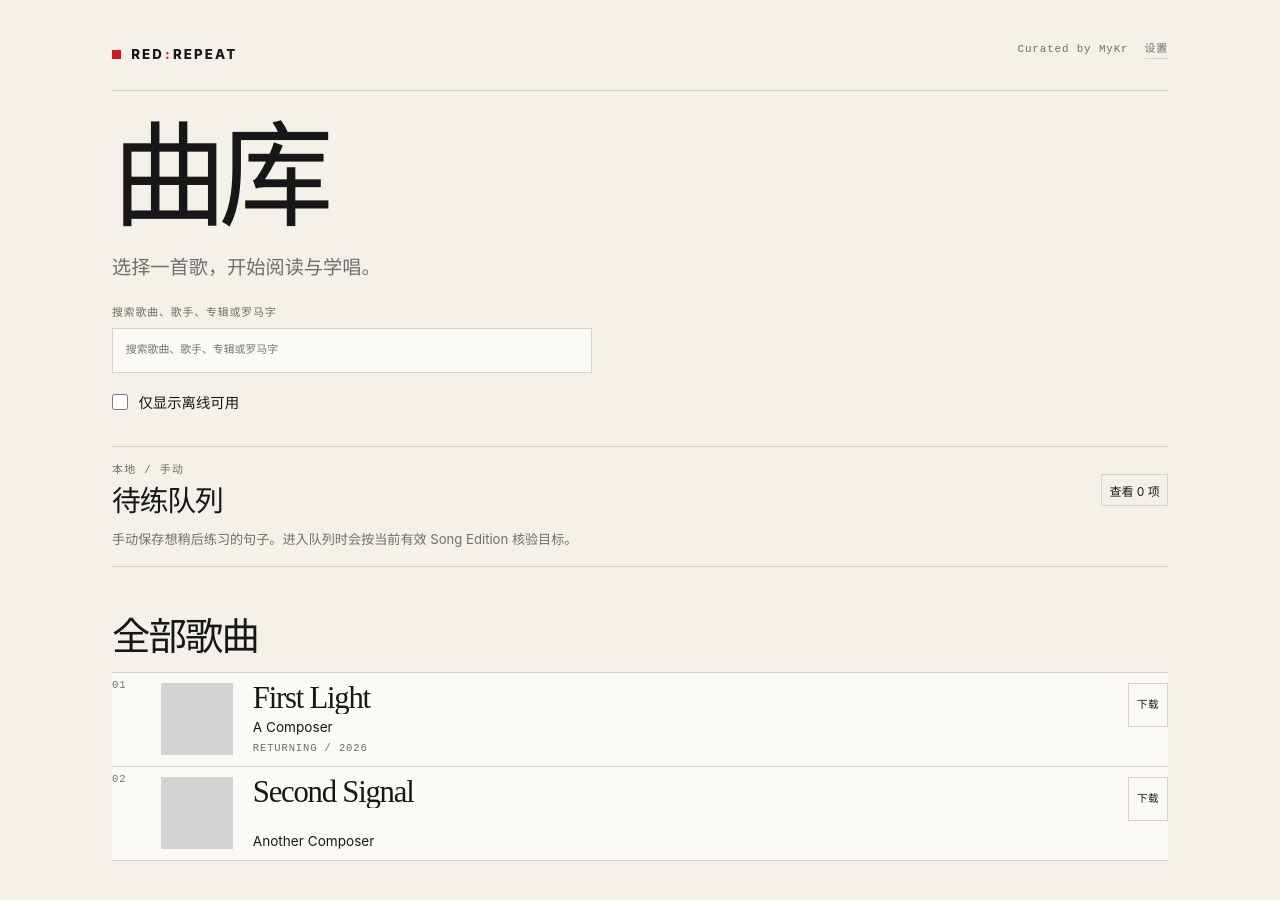
Test case: App Library consumer › keeps catalog order and filters title or artist in Unicode text
Expected: the link with aria-label "打开 Second Signal" is shown, [161,776,414,850]
Expected: the link with aria-label "打开 First Light" is shown, [161,682,370,756]
Step 1. Type "another" into the search field labelled "搜索歌曲、歌手、专辑或罗马字" → [352, 350], box [112,328,592,373]
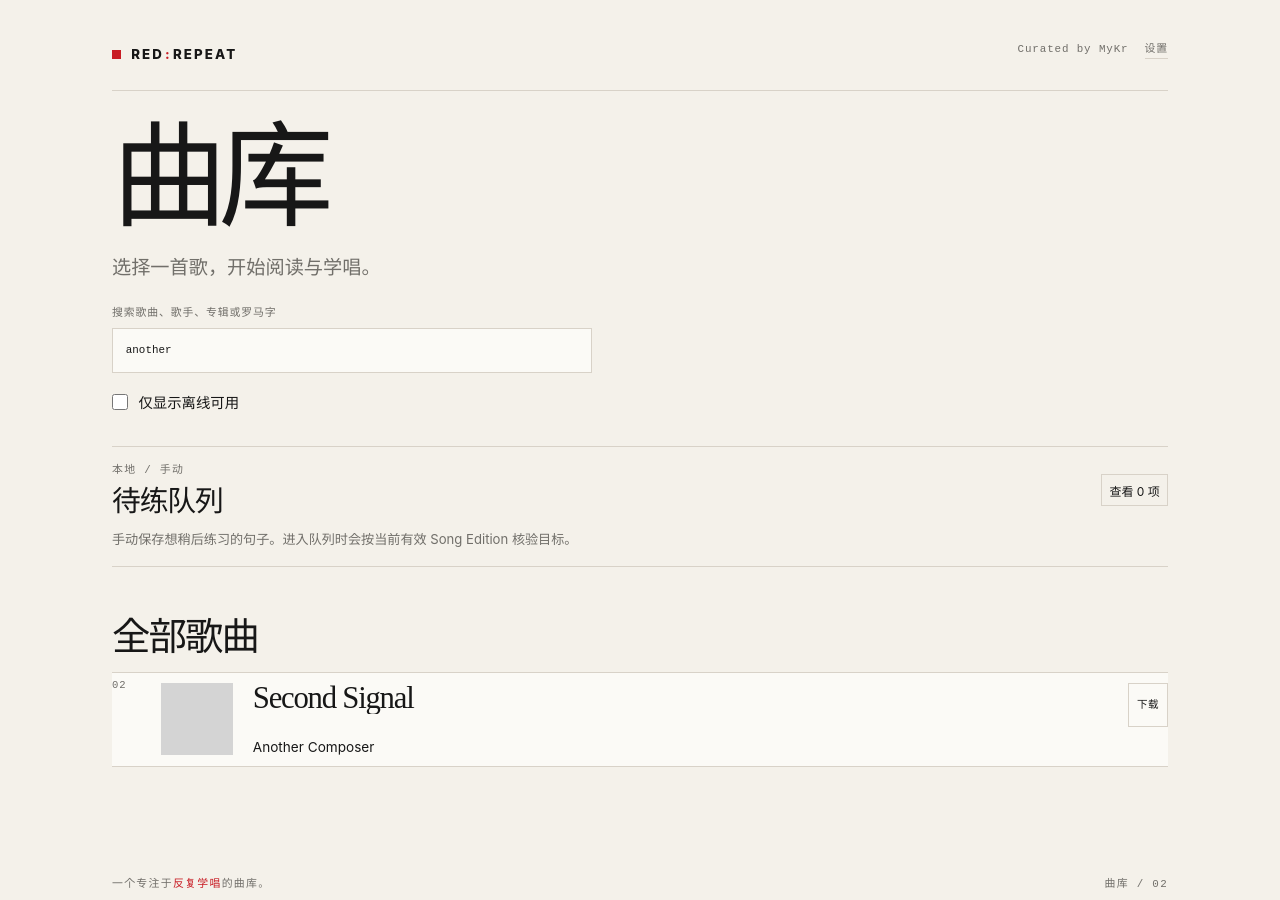
Expected: the link with aria-label "打开 Second Signal" is shown, [161,682,414,756]
Step 2. Replace the text in the search field labelled "搜索歌曲、歌手、专辑或罗马字" with "returning" → [352, 350], box [112,328,592,373]
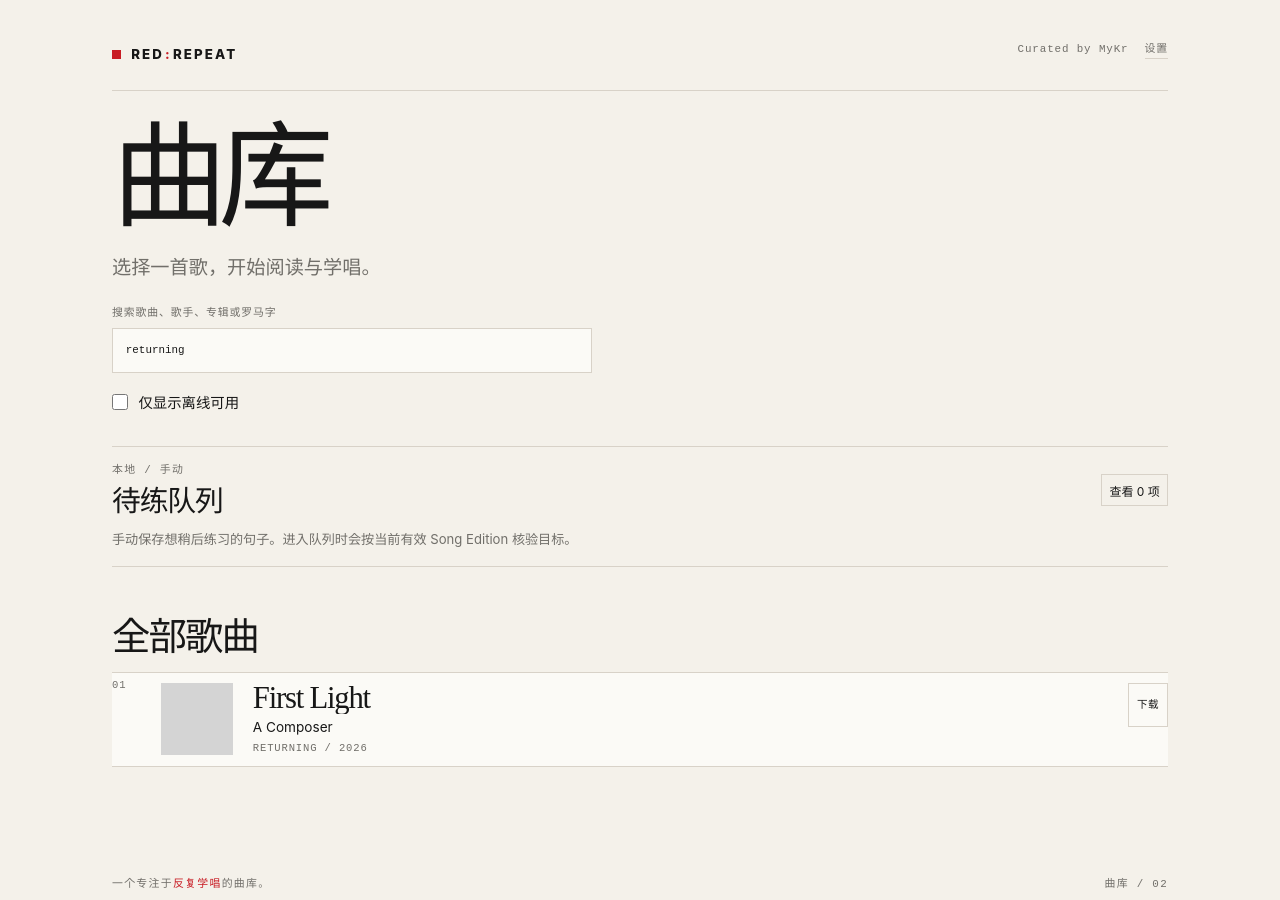
Result: the link with aria-label "打开 First Light" is shown at [161,682,370,756]
Step 3. Replace the text in the search field labelled "搜索歌曲、歌手、专辑或罗马字" with "不存在" → [352, 350], box [112,328,592,373]
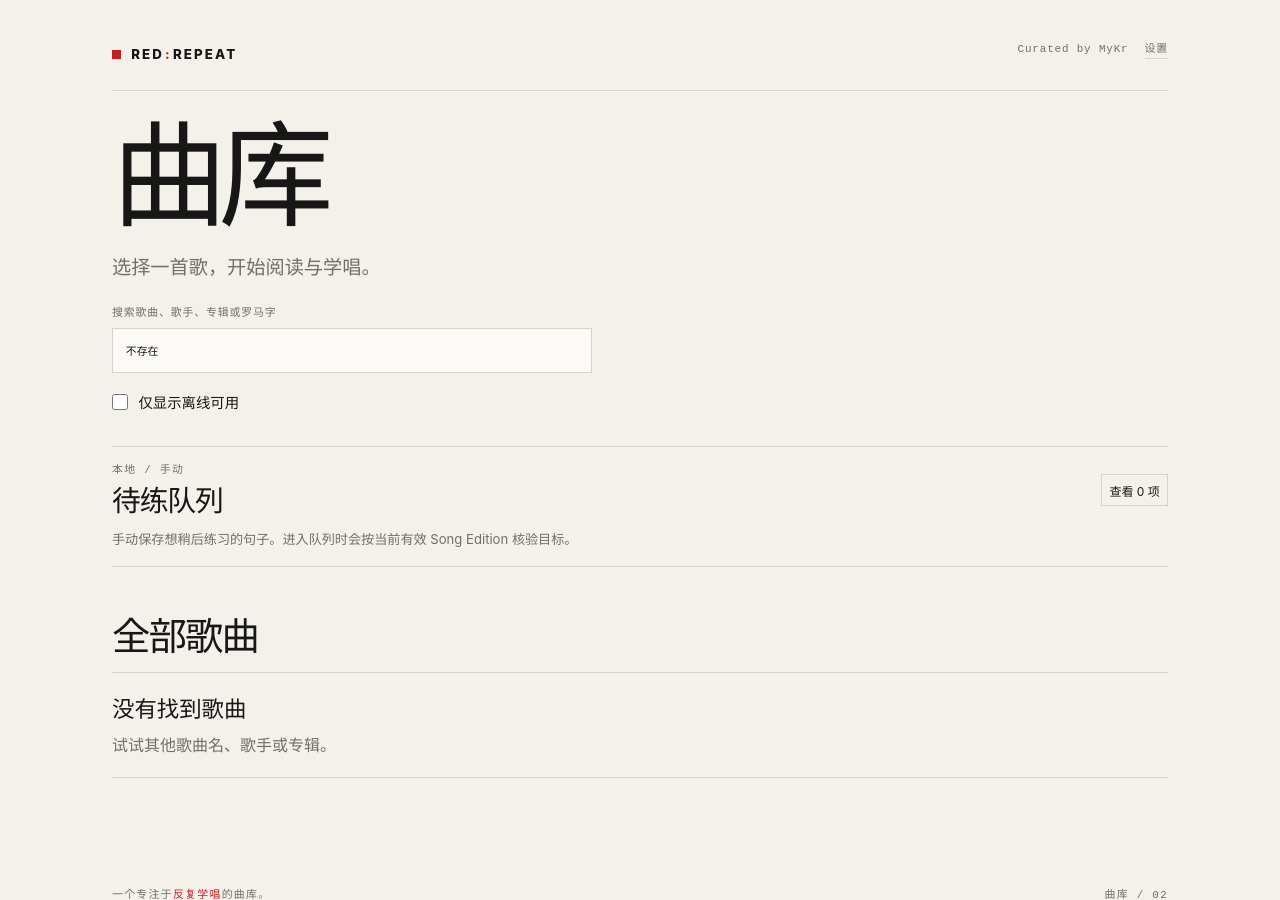
Result: the message shows "没有找到歌曲" at [112,697,246,722]
